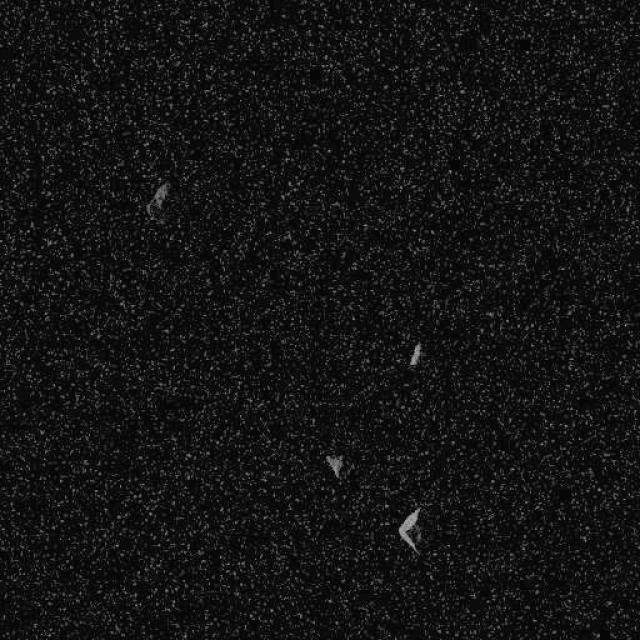D2: (397, 505, 422, 555), (145, 179, 171, 219), (324, 452, 345, 478), (408, 340, 422, 368)
